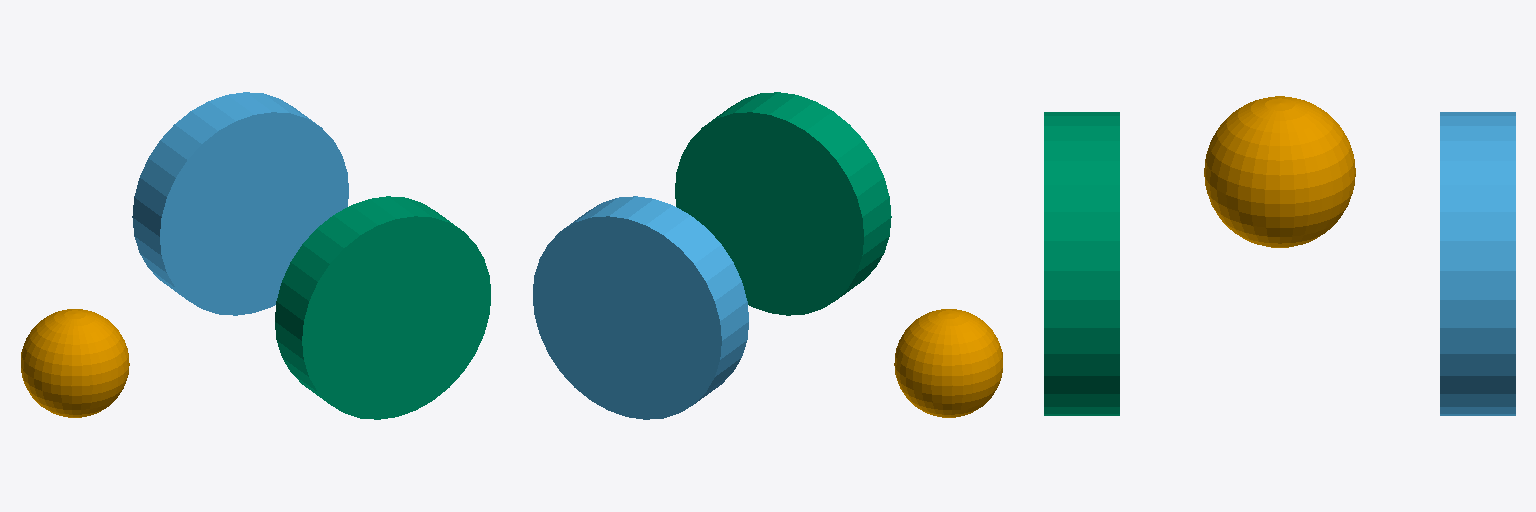
The robot description file, URDF, robot "my_robot":
<robot name="my_robot">

  <link name="chassis">

    <inertial>
      <origin xyz="0 0 0" rpy="0 0 0"/>
      <mass value="5.0"/>
      <inertia
        ixx="0.02083"
        ixy="0.0"
        ixz="0.0"
        iyy="0.07083"
        iyz="0.0"
        izz="0.08333"/>
    </inertial>

    <collision>
      <origin xyz="0 0 0" rpy="0 0 0"/>
      <geometry>
        <box size="0.4 0.2 0.1"/>
      </geometry>
    </collision>

    <visual>
      <origin xyz="0 0 0.05" rpy="0 0 0"/>
      <geometry>
        <mesh
          filename="file:///home/erick/Robotica/install/my_robot_pkg/share/my_robot_pkg/model_description/pioneer2dx/meshes/chassis.dae"
          scale="0.9 0.5 0.5"/>
      </geometry>
    </visual>

    <collision>
      <origin xyz="-0.15 0 -0.05" rpy="0 0 0"/>
      <geometry>
        <sphere radius="0.05"/>
      </geometry>
    </collision>

    <visual>
      <origin xyz="-0.15 0 -0.05" rpy="0 0 0"/>
      <geometry>
        <sphere radius="0.05"/>
      </geometry>
    </visual>

  </link>


  <link name="left_wheel">

    <inertial>
      <origin xyz="0 0 0" rpy="0 0 0"/>
      <mass value="0.5"/>
      <inertia
        ixx="0.001354"
        ixy="0.0"
        ixz="0.0"
        iyy="0.0025"
        iyz="0.0"
        izz="0.001354"/>
    </inertial>

    <collision>
      <origin xyz="0 0 0" rpy="1.5708 0 0"/>
      <geometry>
        <cylinder radius="0.1" length="0.05"/>
      </geometry>
    </collision>

    <visual>
      <origin xyz="0 0 0" rpy="1.5708 0 0"/>
      <geometry>
        <cylinder radius="0.1" length="0.05"/>
      </geometry>
    </visual>

  </link>


  <link name="right_wheel">

    <inertial>
      <origin xyz="0 0 0" rpy="0 0 0"/>
      <mass value="0.5"/>
      <inertia
        ixx="0.001354"
        ixy="0.0"
        ixz="0.0"
        iyy="0.0025"
        iyz="0.0"
        izz="0.001354"/>
    </inertial>

    <collision>
      <origin xyz="0 0 0" rpy="1.5708 0 0"/>
      <geometry>
        <cylinder radius="0.1" length="0.05"/>
      </geometry>
    </collision>

    <visual>
      <origin xyz="0 0 0" rpy="1.5708 0 0"/>
      <geometry>
        <cylinder radius="0.1" length="0.05"/>
      </geometry>
    </visual>

  </link>


  <joint name="left_wheel_hinge" type="continuous">
    <parent link="chassis"/>
    <child link="left_wheel"/>
    <origin xyz="0.1 0.13 0" rpy="0 0 0"/>
    <axis xyz="0 -1 0"/>
    <dynamics damping="0.1" friction="0.0"/>
  </joint>


  <joint name="right_wheel_hinge" type="continuous">
    <parent link="chassis"/>
    <child link="right_wheel"/>
    <origin xyz="0.1 -0.13 0" rpy="0 0 0"/>
    <axis xyz="0 -1 0"/>
    <dynamics damping="0.1" friction="0.0"/>
  </joint>

  <gazebo reference="chassis">
    <mu1>0.0</mu1>
    <mu2>0.0</mu2>
  </gazebo>

  <gazebo reference="left_wheel">
    <mu1>1.0</mu1>
    <mu2>1.0</mu2>
  </gazebo>

  <gazebo reference="right_wheel">
    <mu1>1.0</mu1>
    <mu2>1.0</mu2>
  </gazebo>


  <ros2_control name="GazeboSystem" type="system">

    <hardware>
      <plugin>gazebo_ros2_control/GazeboSystem</plugin>
    </hardware>

    <joint name="left_wheel_hinge">

      <command_interface name="velocity">
        <param name="min">-20.0</param>
        <param name="max">20.0</param>
      </command_interface>

      <state_interface name="position"/>
      <state_interface name="velocity"/>

    </joint>

    <joint name="right_wheel_hinge">

      <command_interface name="velocity">
        <param name="min">-20.0</param>
        <param name="max">20.0</param>
      </command_interface>

      <state_interface name="position"/>
      <state_interface name="velocity"/>

    </joint>

  </ros2_control>


  <gazebo>

    <plugin
      filename="libgazebo_ros2_control.so"
      name="gazebo_ros2_control">

      <robot_param>robot_description</robot_param>
      <robot_param_node>robot_state_publisher</robot_param_node>

      <parameters>/home/erick/Robotica/install/my_robot_pkg/share/my_robot_pkg/config/controllers.yaml</parameters>

      <ros>

        <remapping>
          /diff_drive_controller/cmd_vel_unstamped:=/cmd_vel
        </remapping>

        <remapping>
          /diff_drive_controller/odom:=/odom
        </remapping>

      </ros>

    </plugin>

  </gazebo>

</robot>

--- Facts derived from the render (not from the file) ---
3 views of the same robot in one strip: view 1: azimuth 30°, elevation 25°; view 2: azimuth 150°, elevation 25°; view 3: azimuth 270°, elevation 25° (orthographic).
Robot: my_robot — 3 links, 2 joints (2 continuous); root link chassis; default pose: every joint at zero.
Visible links, largest first — view 1: right_wheel, left_wheel, chassis; view 2: left_wheel, right_wheel, chassis; view 3: left_wheel, right_wheel, chassis.
Boxes of the visible links, <box> form: right_wheel: <box>275,196,490,419</box>; left_wheel: <box>132,92,348,315</box>; chassis: <box>21,309,129,417</box>; left_wheel: <box>533,196,748,419</box>; right_wheel: <box>675,92,891,315</box>; chassis: <box>894,309,1002,417</box>; left_wheel: <box>1440,112,1515,415</box>; right_wheel: <box>1044,112,1119,415</box>; chassis: <box>1204,96,1355,247</box>.
Size in the robot's own frame: 0.4 by 0.31 by 0.2 metres.
Geometry: only primitive shapes (box / cylinder / sphere) drawn; not drawn: 1 mesh visual (reference in a form the renderer does not follow).
